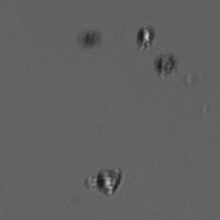Dead Cell: (154, 51, 177, 76), (79, 28, 102, 49)
Living Cell: (95, 168, 123, 195), (134, 25, 157, 49)
